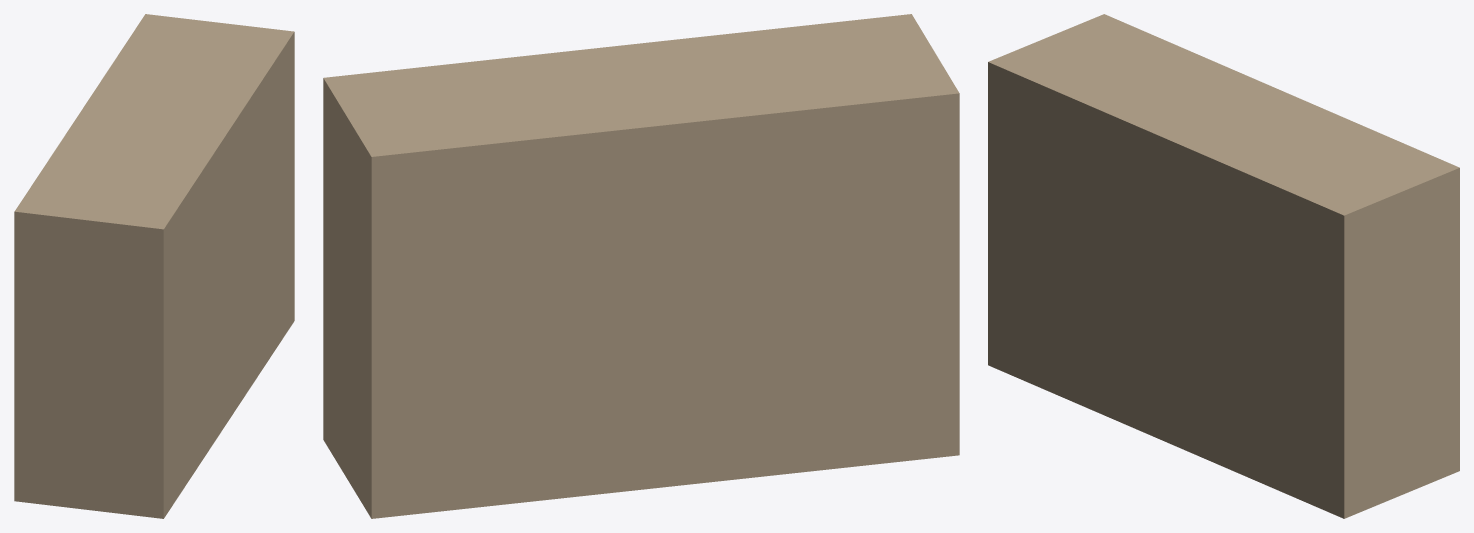
Rendered from bld_100469811.dae.
The picture shows the model from 3 angles, left to right: view 1: azimuth 30°, elevation 25°; view 2: azimuth 150°, elevation 25°; view 3: azimuth 270°, elevation 25°; orthographic projection. The views are drawn at different scales.
Visible parts, largest first — view 1: bld_100469811; view 2: bld_100469811; view 3: bld_100469811.
Part boxes in pixels (x1,y1,x2,y2): bld_100469811: (14,14,294,518); bld_100469811: (323,14,959,518); bld_100469811: (988,14,1459,518).
Size of the model in its own units: 11.41 by 11.28 by 8.
